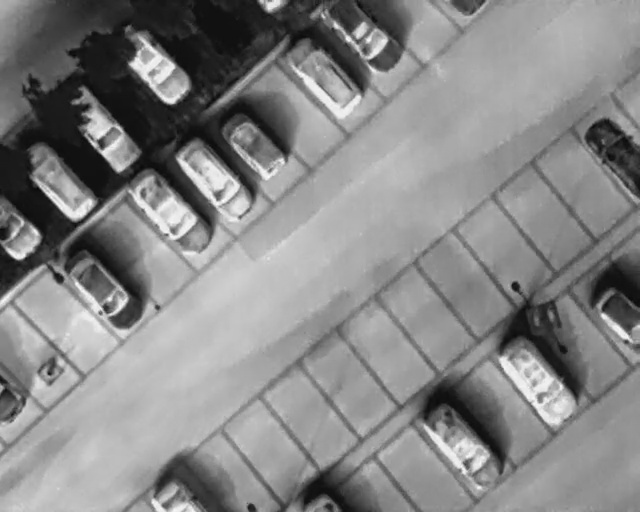Car: (413, 393, 512, 500), (121, 164, 218, 265), (491, 331, 586, 434), (56, 239, 150, 336), (167, 133, 258, 229), (57, 81, 147, 176), (282, 33, 369, 125), (13, 137, 102, 226), (111, 25, 197, 109), (332, 0, 407, 79), (217, 106, 290, 184), (580, 118, 638, 200), (0, 195, 42, 262), (596, 282, 639, 345)
